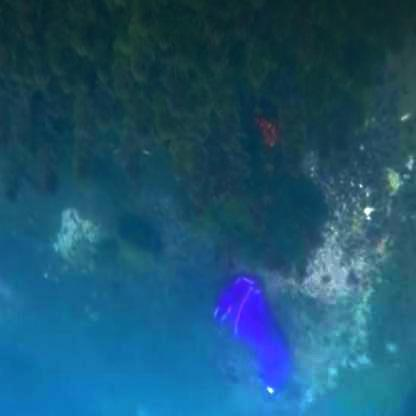plastic: (218, 248, 298, 391)
